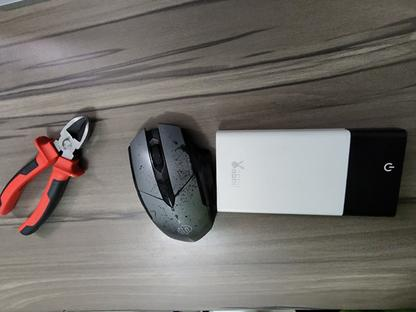mouse: (126, 122, 217, 243)
